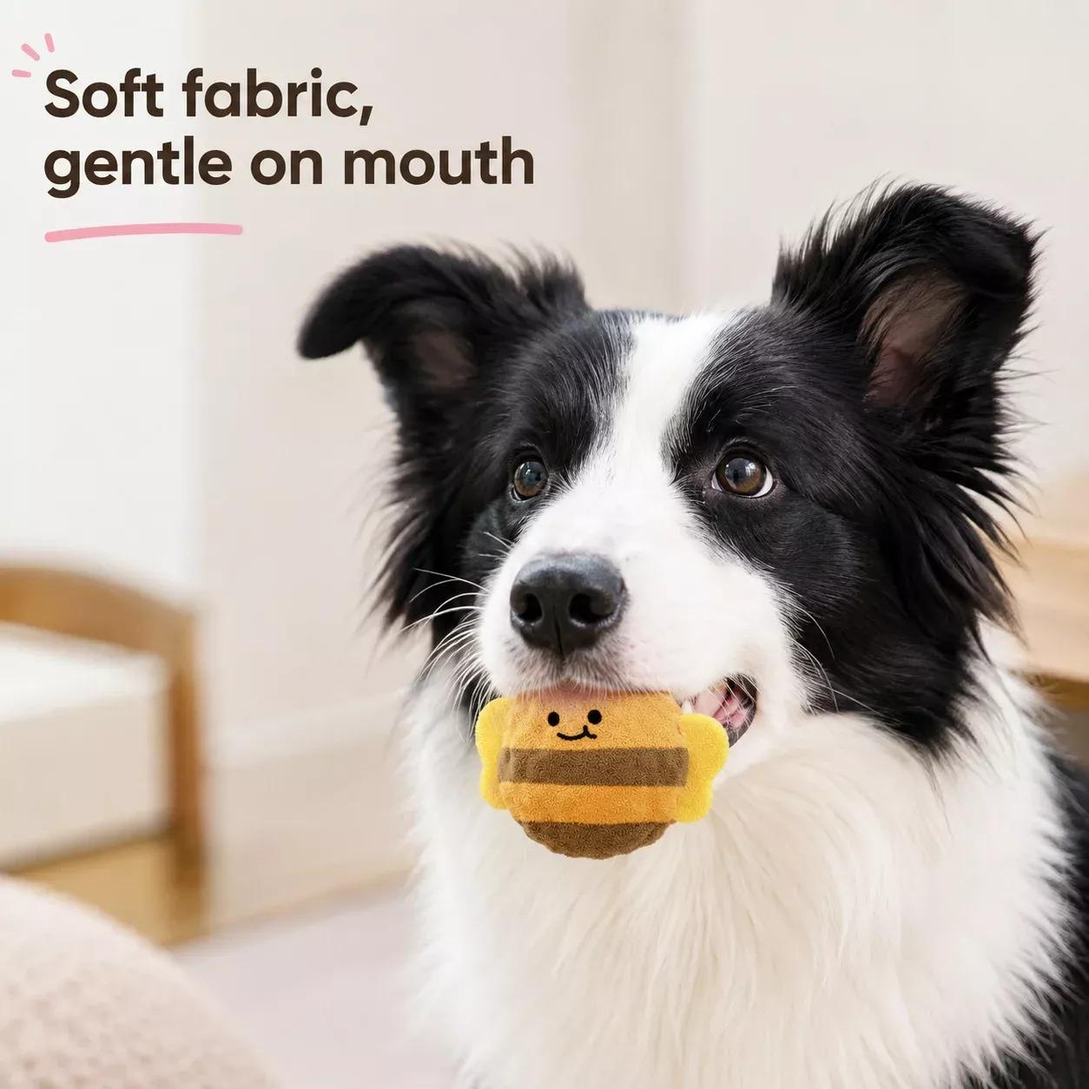adult_dog: (293, 180, 1089, 1089)
